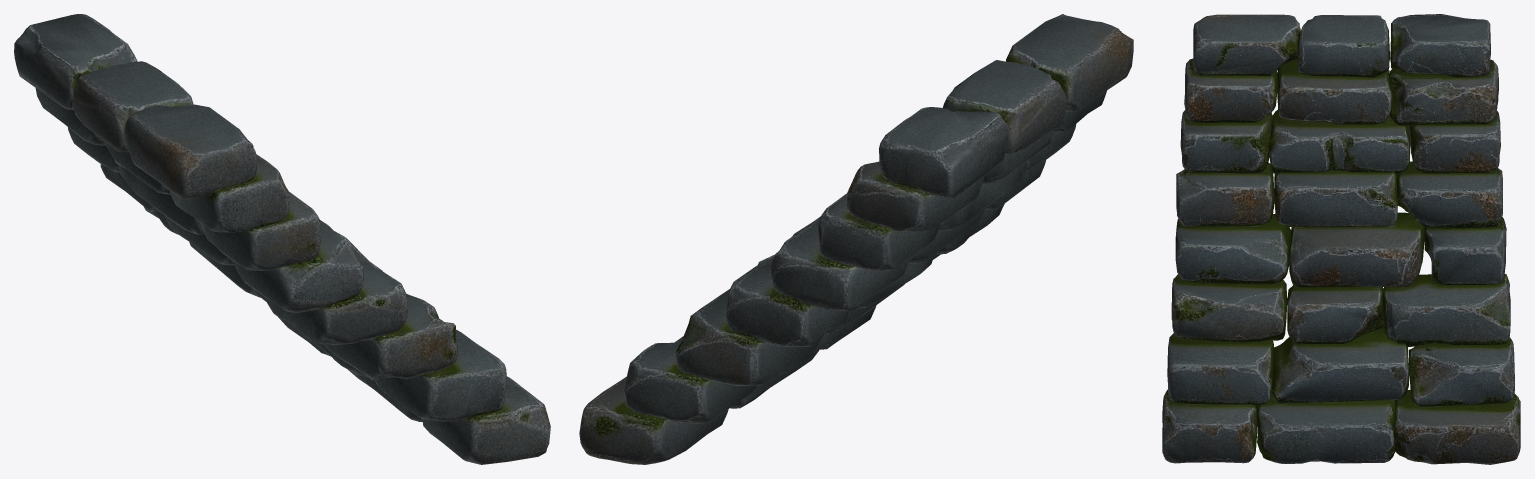
Rendered from tripo_convert_d23e7f7f-9643-4022-8d73-d4455b5a4027.fbx.
3 renders of one model, left to right at view 1: azimuth 30°, elevation 25°; view 2: azimuth 150°, elevation 25°; view 3: azimuth 270°, elevation 25°, orthographic. The views are drawn at different scales.
Parts seen in each view (by area): view 1: tripo_node_d23e7f7f; view 2: tripo_node_d23e7f7f; view 3: tripo_node_d23e7f7f.
Part boxes in pixels (x1=…): tripo_node_d23e7f7f: x1=14, y1=14, x2=550, y2=464; tripo_node_d23e7f7f: x1=579, y1=14, x2=1133, y2=464; tripo_node_d23e7f7f: x1=1162, y1=14, x2=1520, y2=464.
Bounding box in the file's own units: 0.959 × 0.9551 × 0.998.
Materials: 1 (1 with a texture image).
